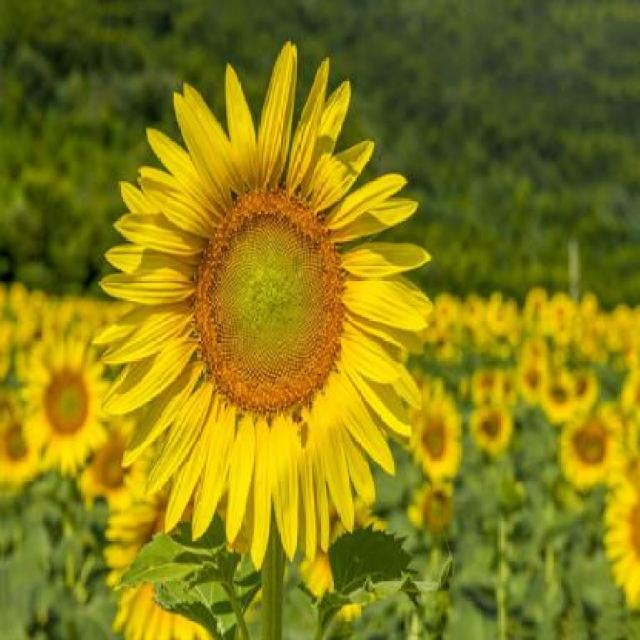sunflower: (96, 39, 432, 582)
